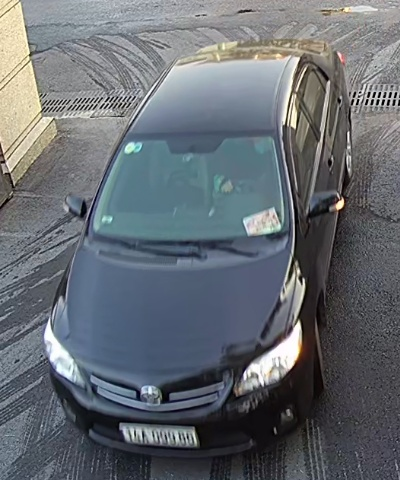vehicle plate: (121, 421, 208, 449)
